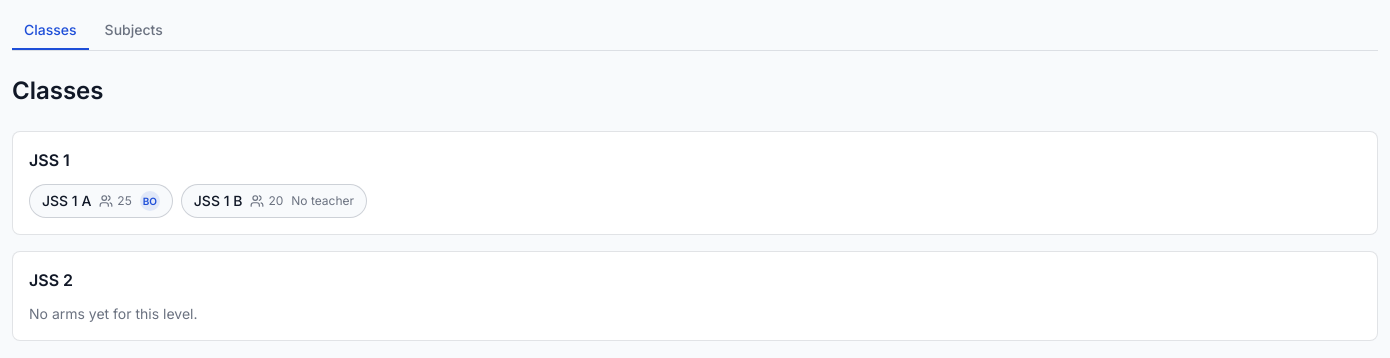
Scenario: ClassesPage — Subjects tab › TEACHER sees no subject mutation controls
Expected: the heading "JSS 1" is shown, [29,148,70,172]
Click the tab "Subjects" at [134, 31], box [93,12,175,50]
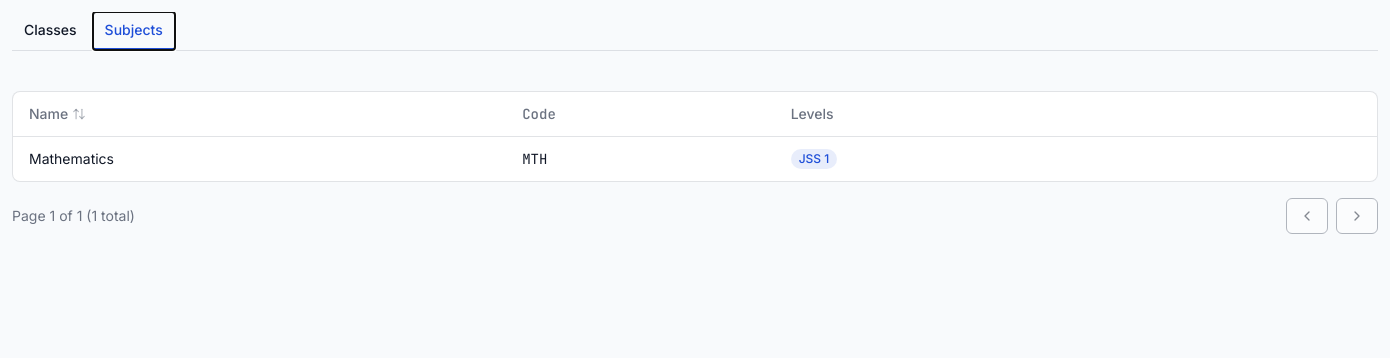
Now the table is shown, box [13,92,1377,181]
